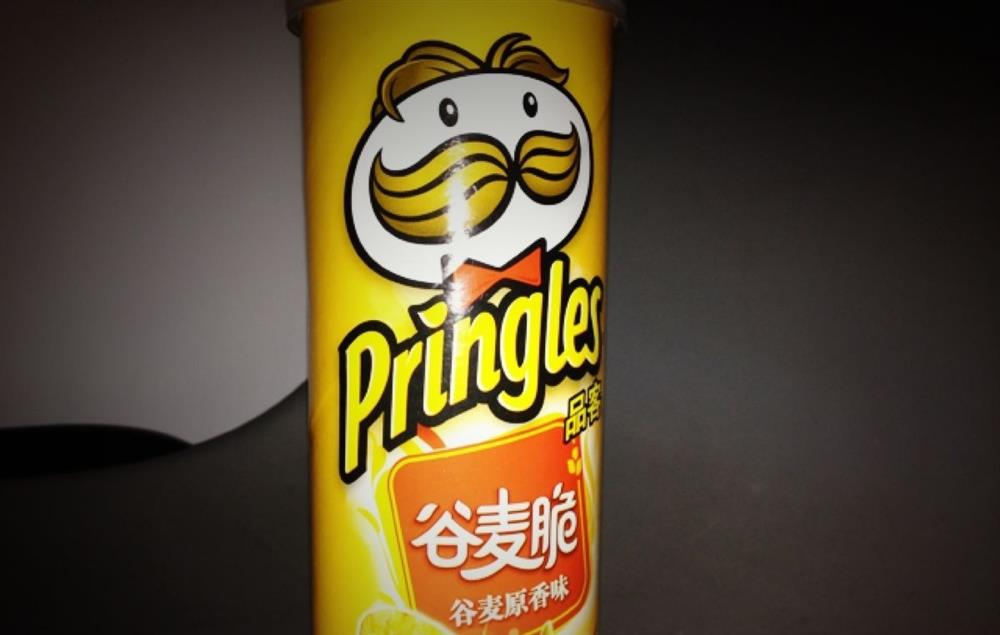pringles: (326, 34, 613, 496)
